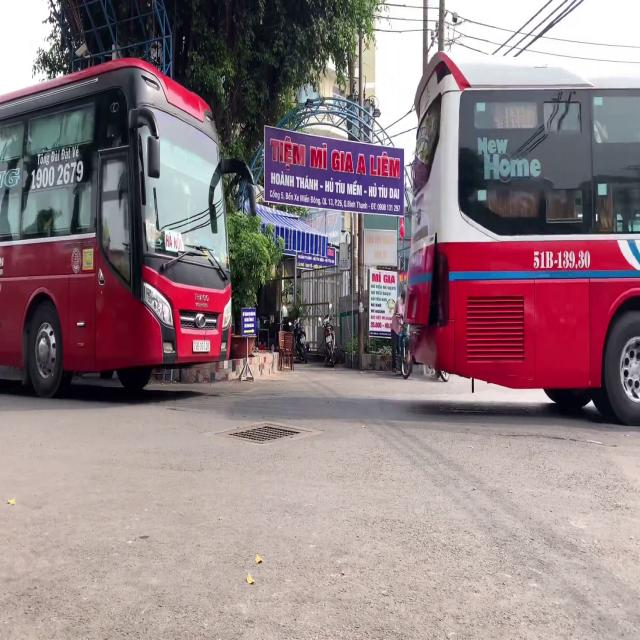bien_trang: (193, 340, 212, 353)
